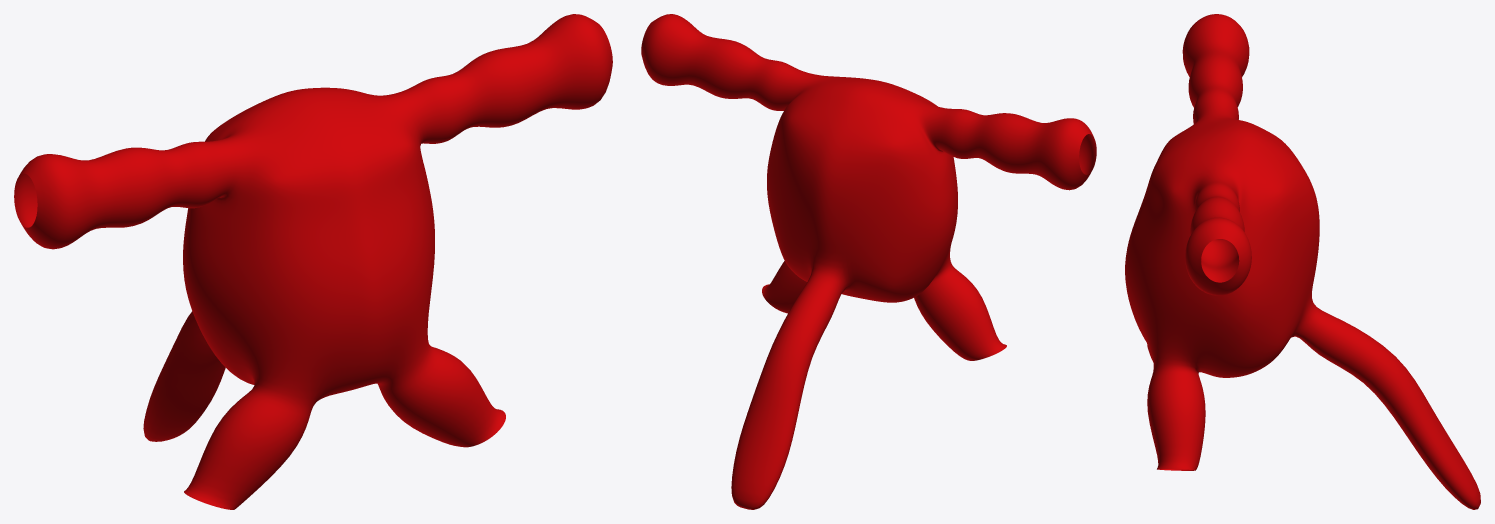
Rendered from zone4-singe-red.gltf.
3 views of the same model, side by side, from view 1: azimuth 30°, elevation 25°; view 2: azimuth 150°, elevation 25°; view 3: azimuth 270°, elevation 25° (orthographic). The views are drawn at different scales.
Parts seen in each view (by area): view 1: Roundcube.028; view 2: Roundcube.028; view 3: Roundcube.028.
Part boxes in pixels (x1=…): Roundcube.028: x1=14, y1=14, x2=612, y2=509; Roundcube.028: x1=641, y1=14, x2=1096, y2=509; Roundcube.028: x1=1125, y1=14, x2=1480, y2=509.
Size of the model in its own units: 4.29 by 3.34 by 2.76.
